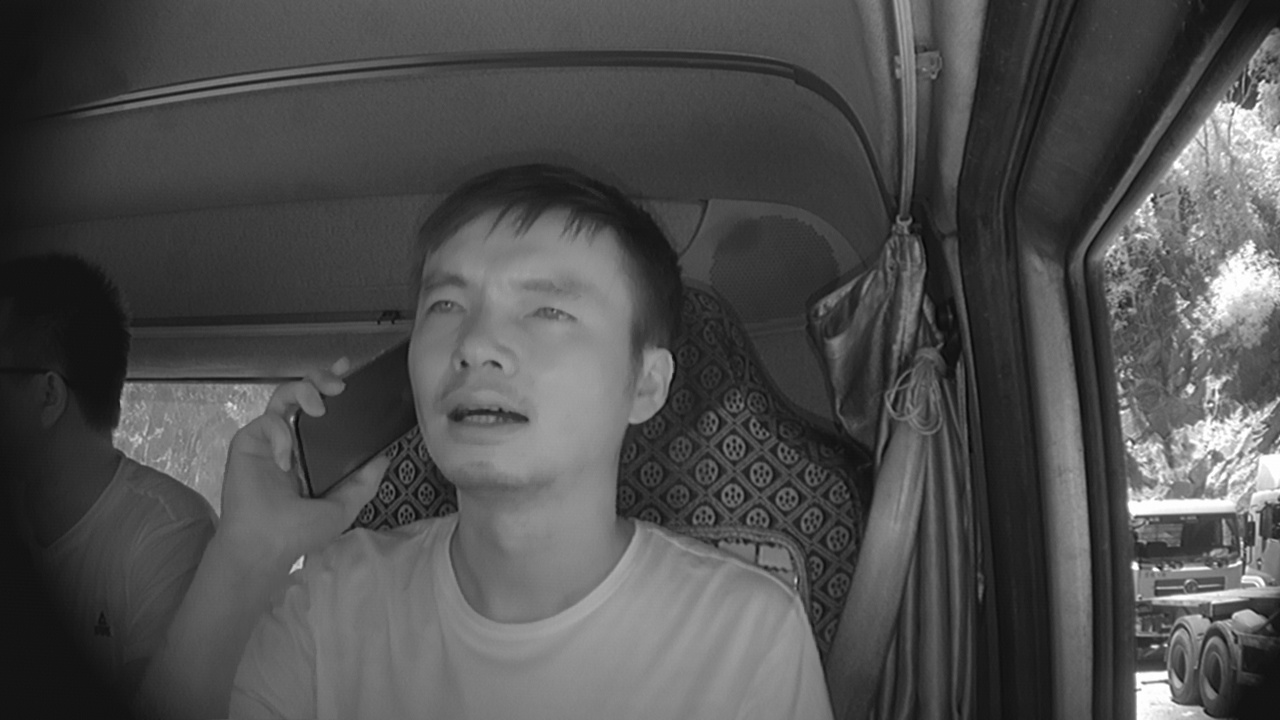hand: (224, 355, 365, 553)
